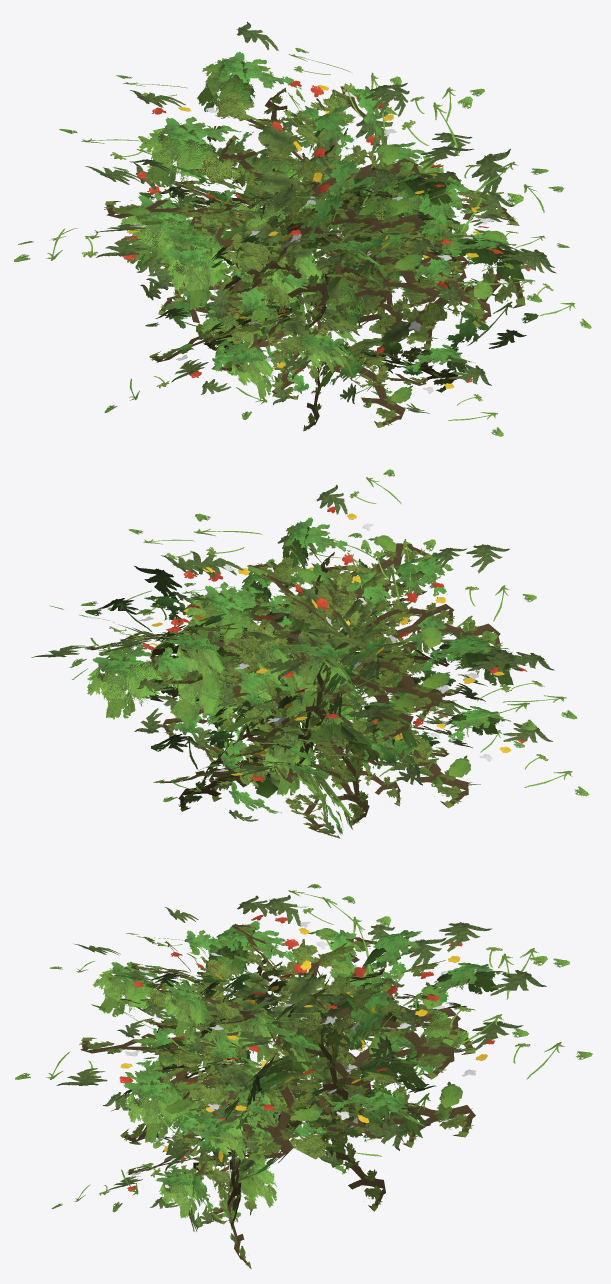
File: Arbre_008_Feuillage.fbx
3 renders of one model, top to bottom at view 1: azimuth 30°, elevation 25°; view 2: azimuth 150°, elevation 25°; view 3: azimuth 270°, elevation 25°, orthographic. The views are drawn at different scales.
Visible parts, largest first — view 1: Arbre_008_Feuillage; view 2: Arbre_008_Feuillage; view 3: Arbre_008_Feuillage.
Boxes of the visible parts, x1=… form: Arbre_008_Feuillage: x1=14, y1=21, x2=591, y2=436; Arbre_008_Feuillage: x1=31, y1=469, x2=589, y2=838; Arbre_008_Feuillage: x1=15, y1=884, x2=592, y2=1268.
Size of the model in its own units: 8.3 by 4.2 by 8.17.
